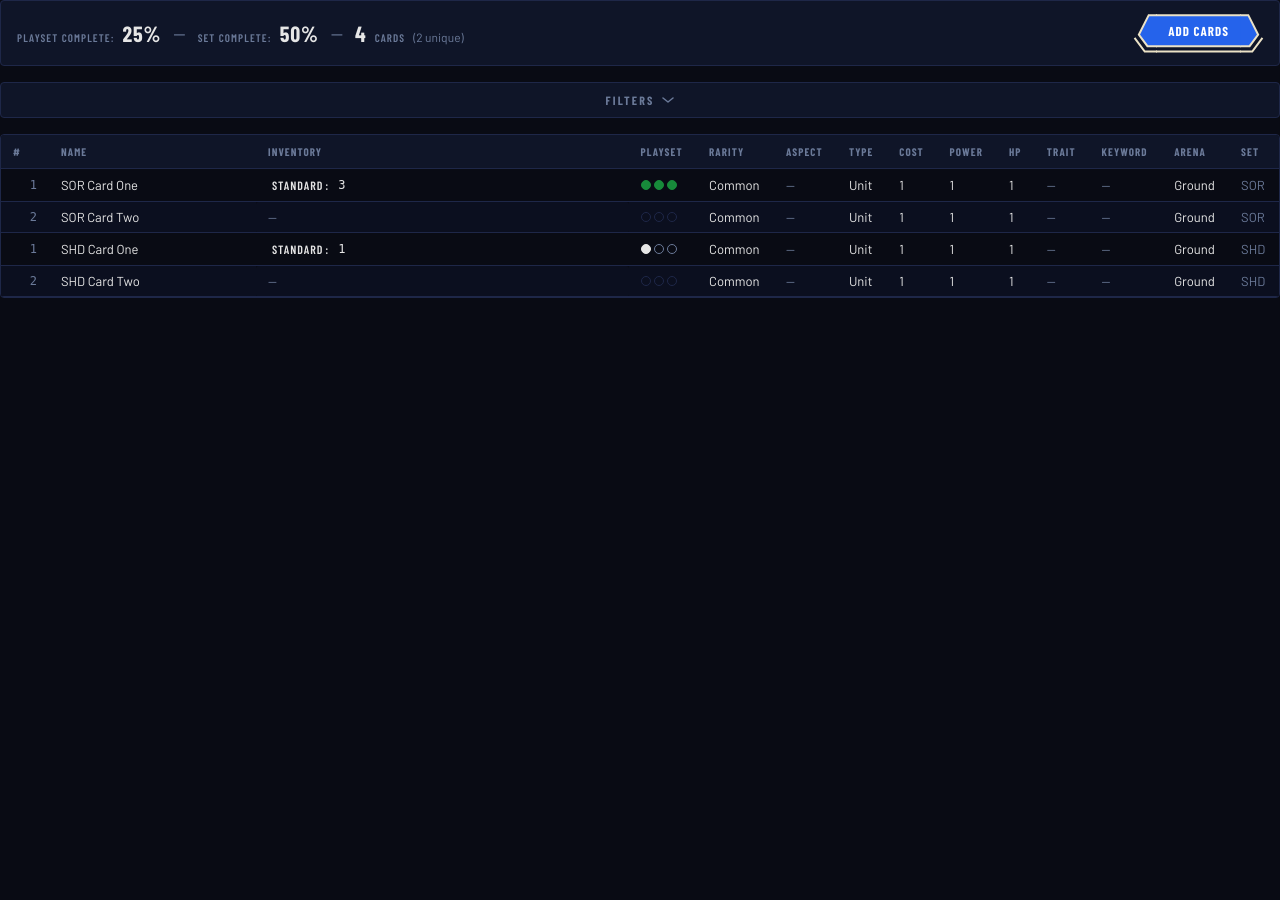
Scenario: InventoryPage popup wiring (Inventory tab redesign) › clicking the inventory cell opens CardInventoryPopup for that base card
Click the 2nd cell with class "td-inventory". click: (442, 217)
box: [256,202,629,232]
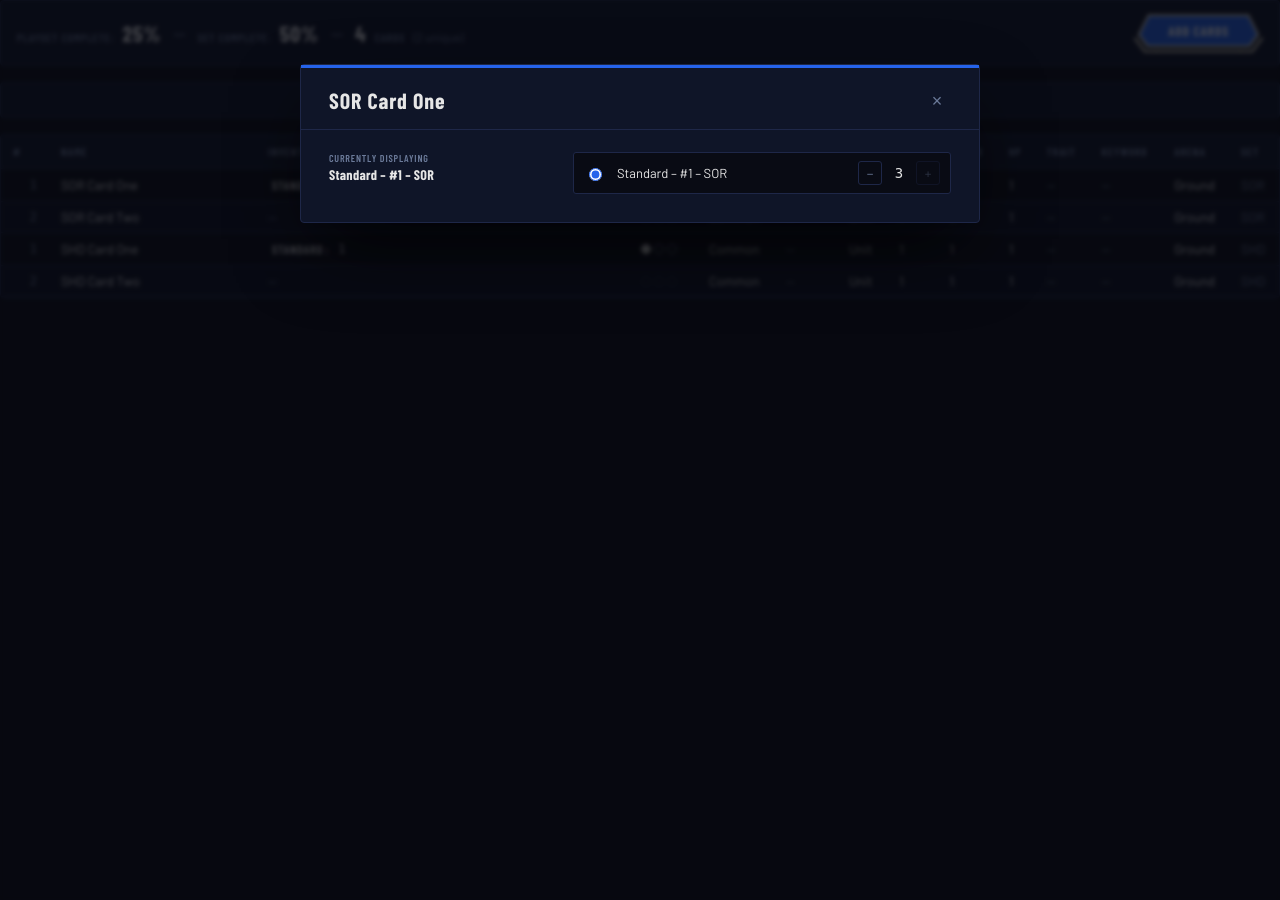
Result: the number of dialogs is 1 at [300,64,980,223]
